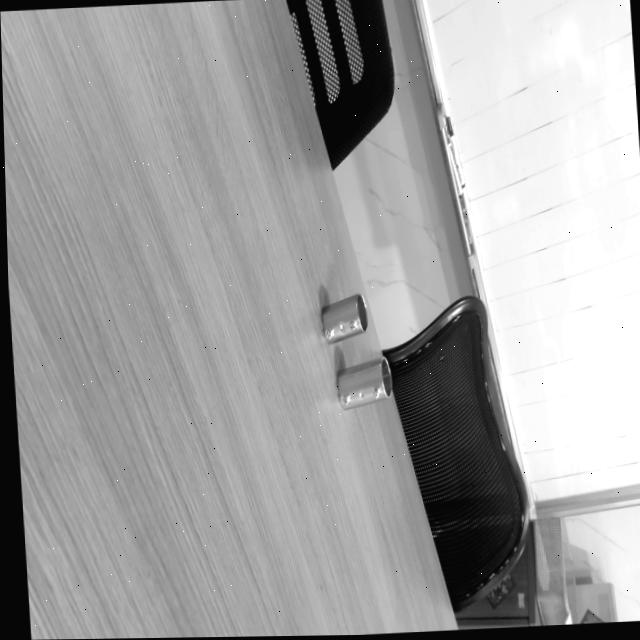Co_Lon: (329, 354, 397, 412)
Co_Nho: (313, 292, 374, 346)
